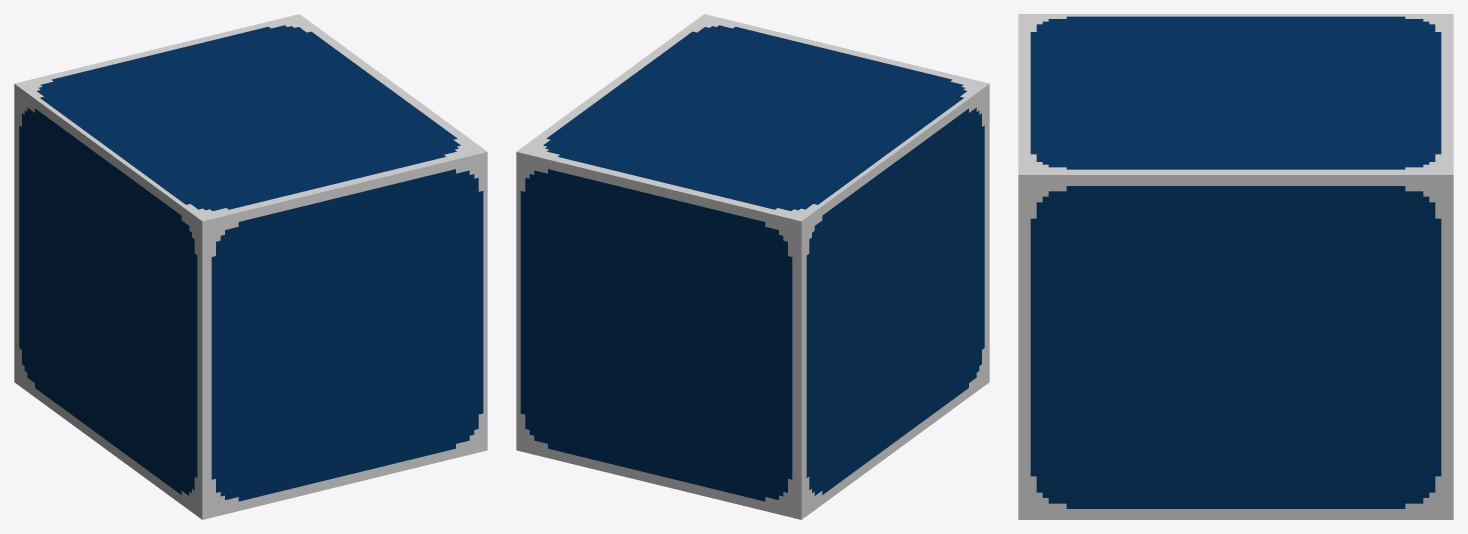
Rendered from house_simple_blue_cube.glb.
3 views of the same model, side by side, from view 1: azimuth 30°, elevation 25°; view 2: azimuth 150°, elevation 25°; view 3: azimuth 270°, elevation 25° (orthographic). The views are drawn at different scales.
Parts seen in each view (by area): view 1: house_simple_blue_cube.001; view 2: house_simple_blue_cube.001; view 3: house_simple_blue_cube.001.
Boxes of the visible parts, bbox=[...] form: house_simple_blue_cube.001: bbox=[14, 14, 487, 519]; house_simple_blue_cube.001: bbox=[516, 14, 989, 519]; house_simple_blue_cube.001: bbox=[1018, 14, 1453, 519].
Size of the model in its own units: 6.3 by 6.3 by 7.2.
1 material, 1 textured.
